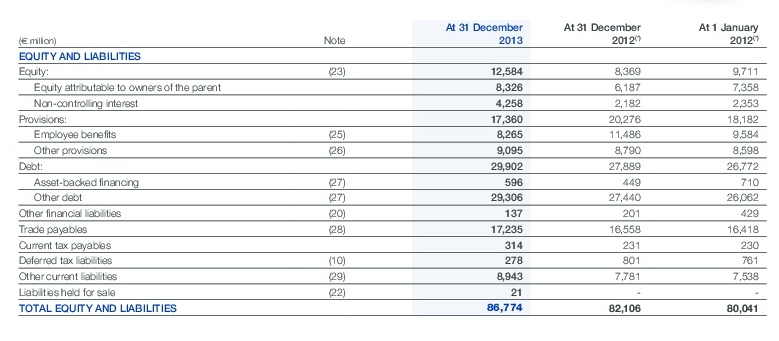table: (0, 0, 779, 341)
